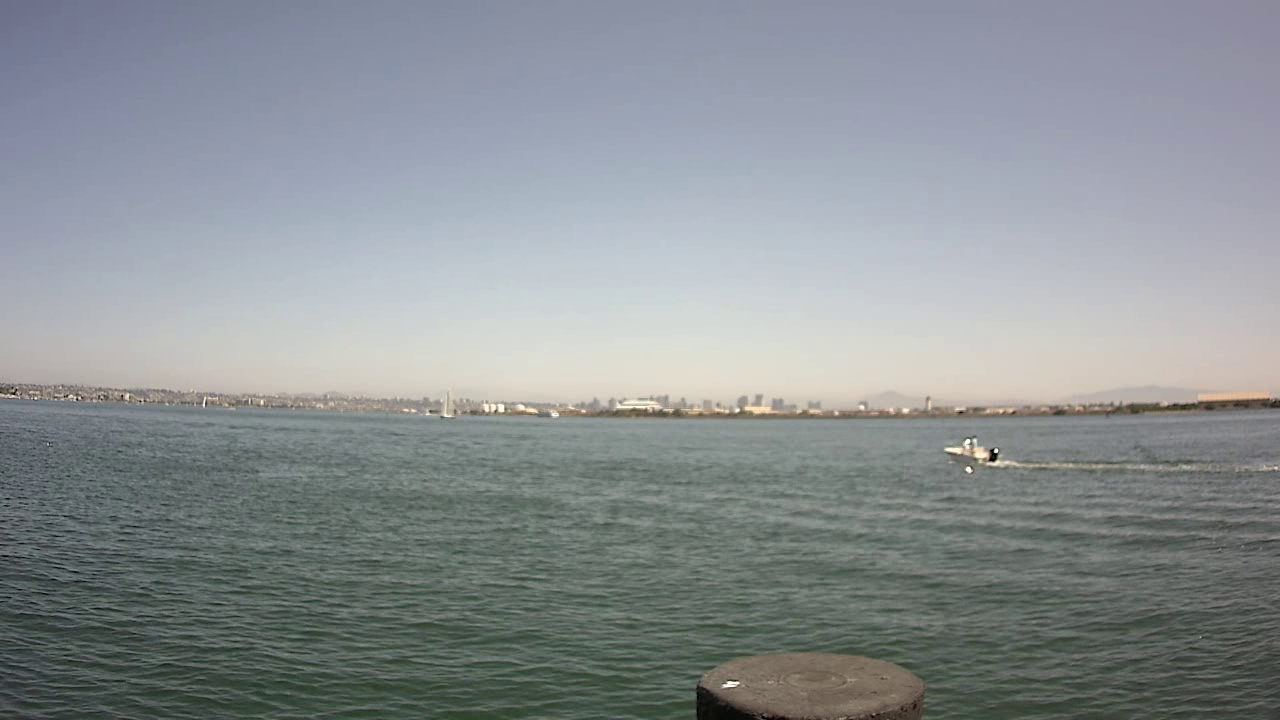target: (943, 427, 1010, 470)
